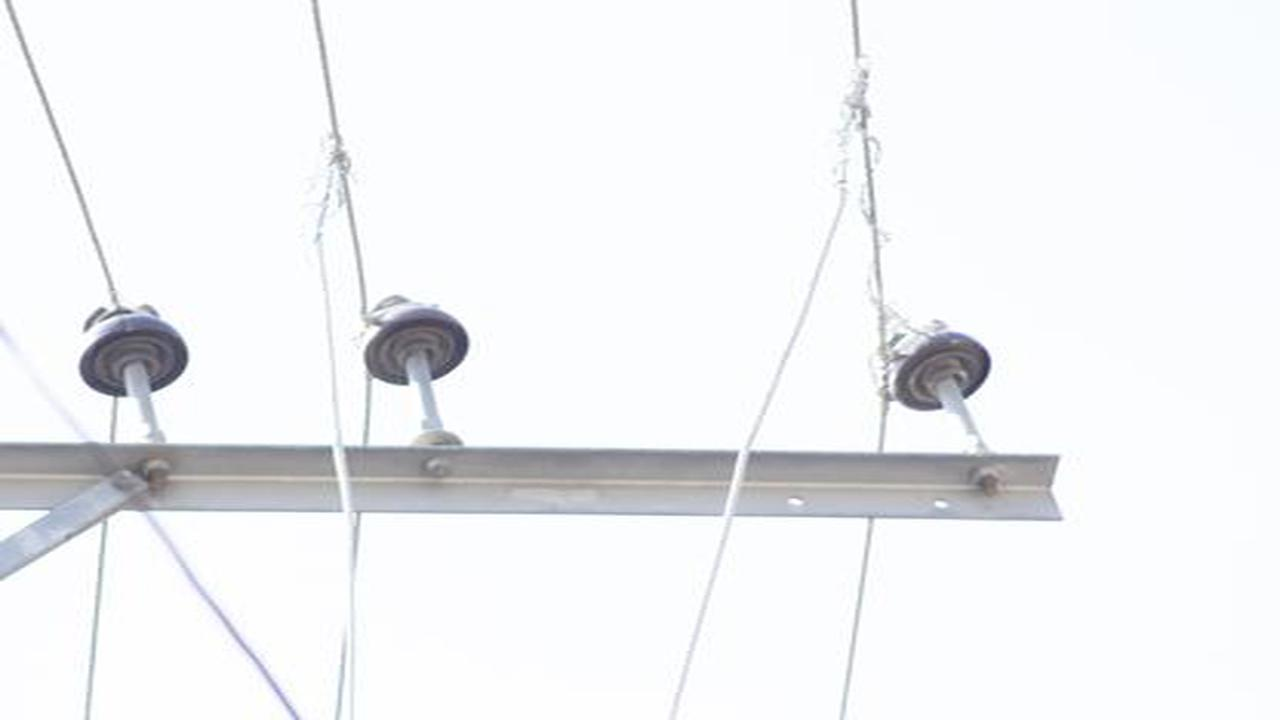insulator_pin: (885, 313, 1002, 423), (73, 296, 196, 392), (357, 288, 473, 389)
